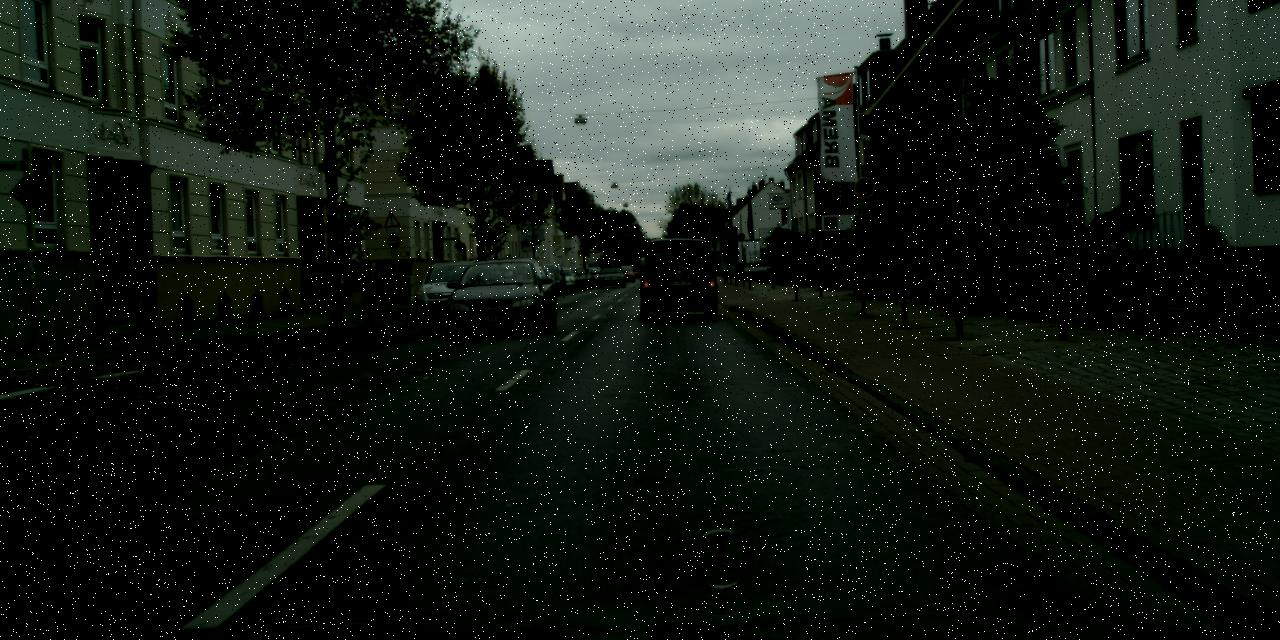ped: (1089, 205, 1127, 296)
